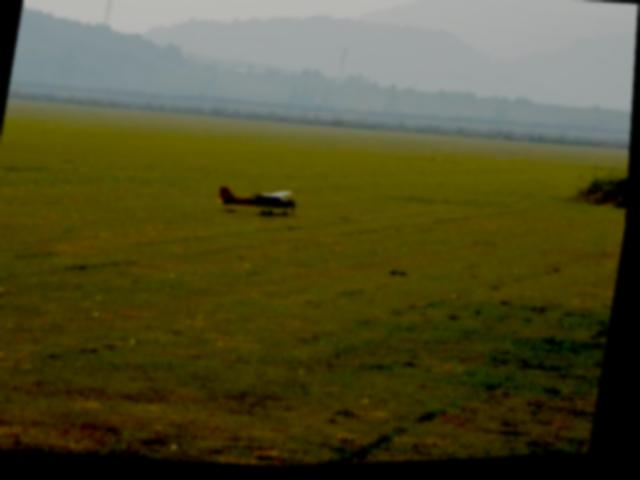iha: (217, 184, 310, 225)
